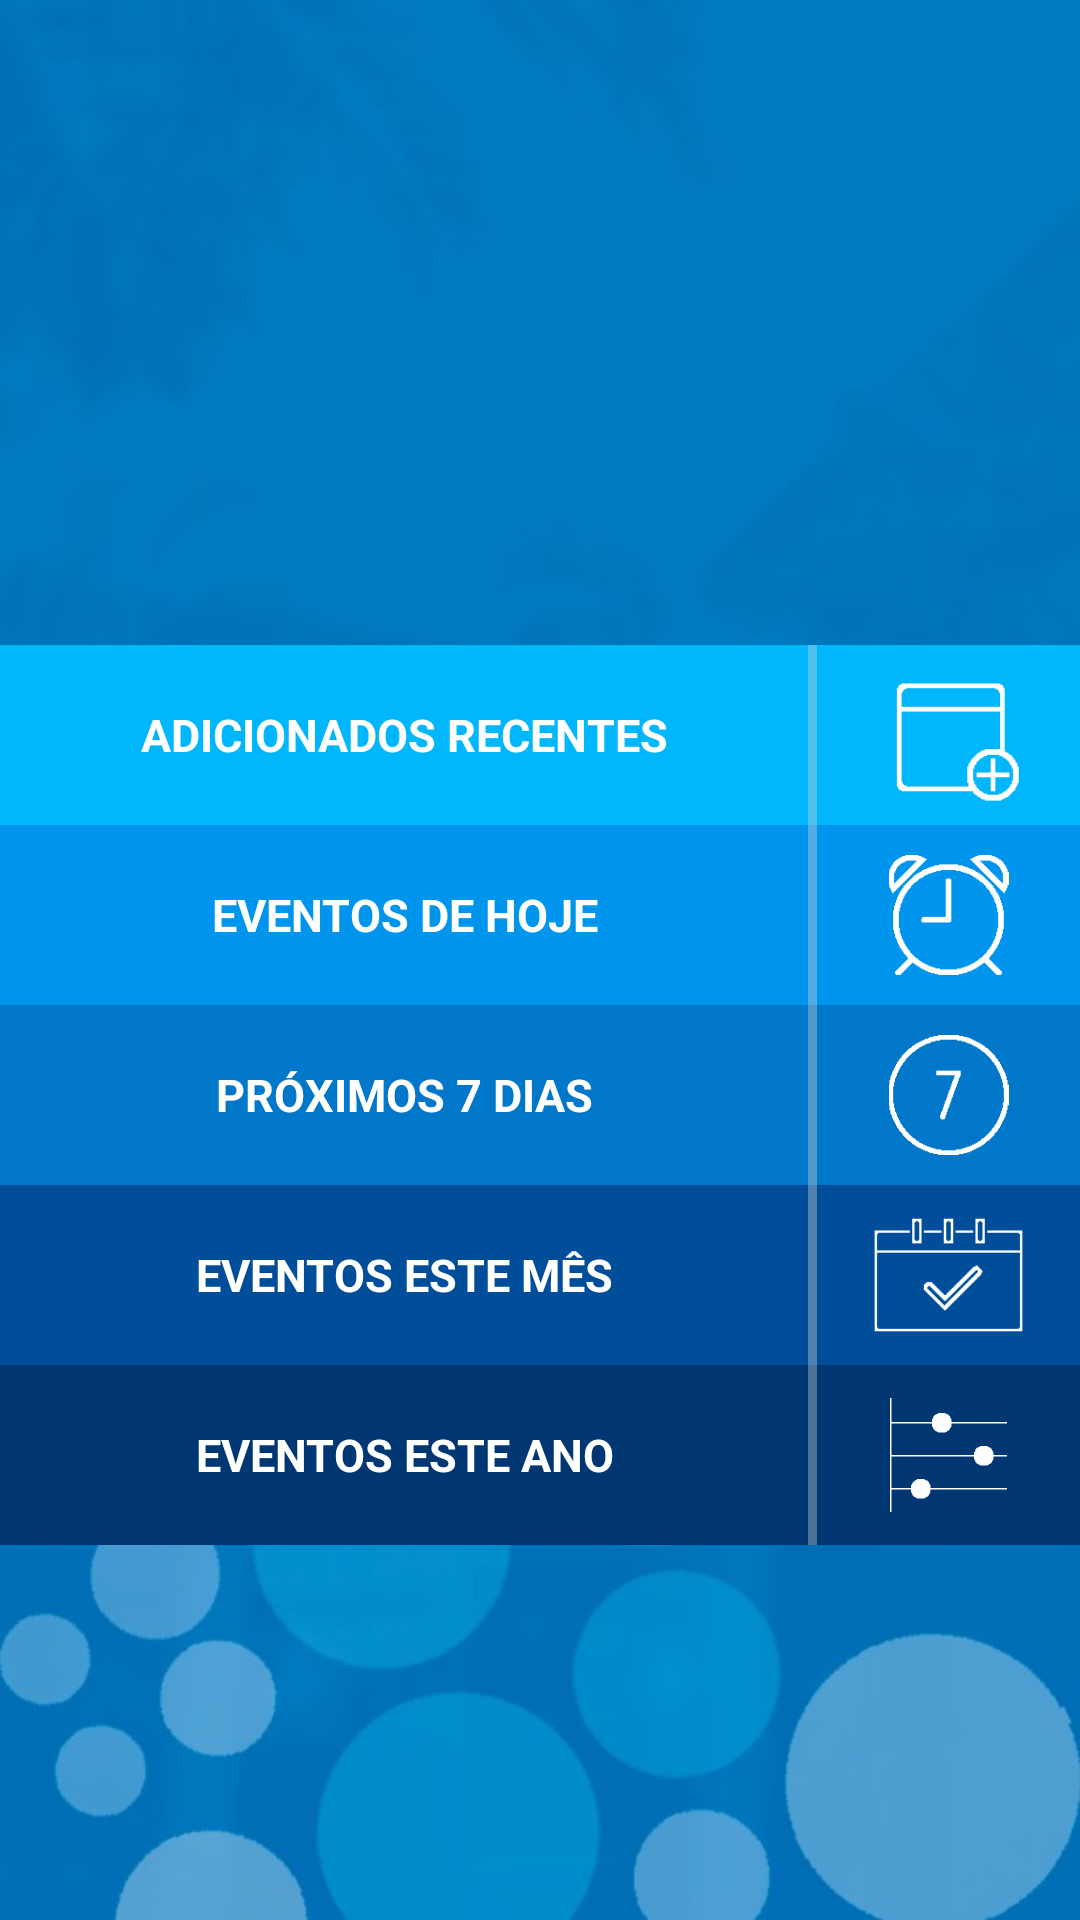

Screen size 1080x1920. Icon name, then its center in pixels as (x,y):
addrecentes: (957,742)
calendario: (948,1275)
sete: (949,1095)
timeline: (948,1455)
